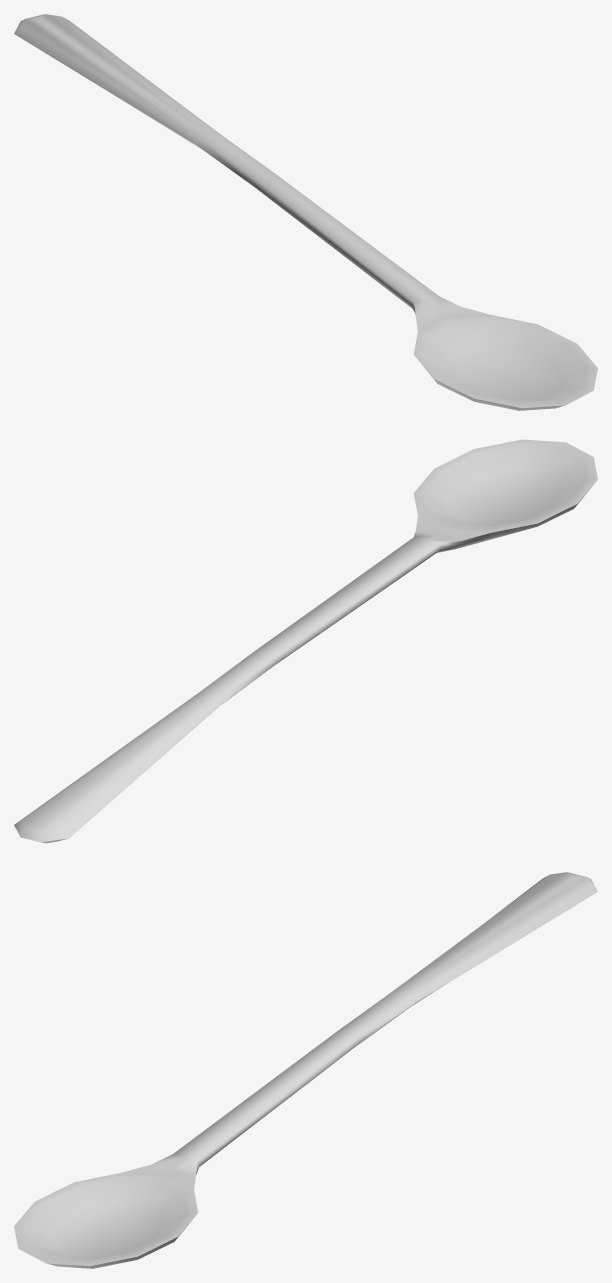
The model's file is SodaSpoon_01.fbx.
The picture shows the model from 3 angles, top to bottom: view 1: azimuth 30°, elevation 25°; view 2: azimuth 150°, elevation 25°; view 3: azimuth 330°, elevation 25°; orthographic projection.
Visible parts, largest first — view 1: SodaSpoon_01; view 2: SodaSpoon_01; view 3: SodaSpoon_01.
Boxes of the visible parts, x1,y1,x2,y2 form: SodaSpoon_01: [14, 14, 597, 410]; SodaSpoon_01: [14, 439, 597, 843]; SodaSpoon_01: [14, 872, 597, 1268].
Bounding box in the file's own units: 0.0318 × 0.00635 × 0.2056.
